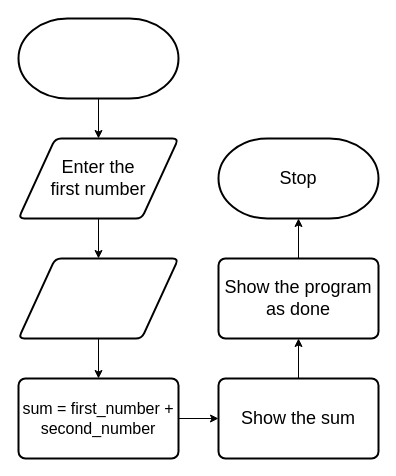
This 396x476 diagram has some shape labels left out. Here are the shapes that lost their labels. From the top down, the centre of each, then its label:
point 98,58: Start
point 98,298: Enter the second number
